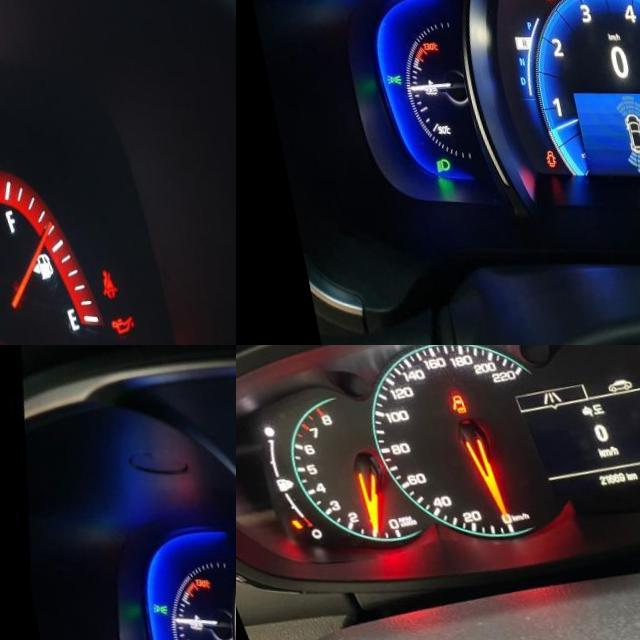Doors: (436, 393, 456, 413), (527, 148, 539, 165)
Low beam: (417, 156, 434, 172)
SideLamp: (138, 601, 157, 615), (372, 72, 388, 85)
